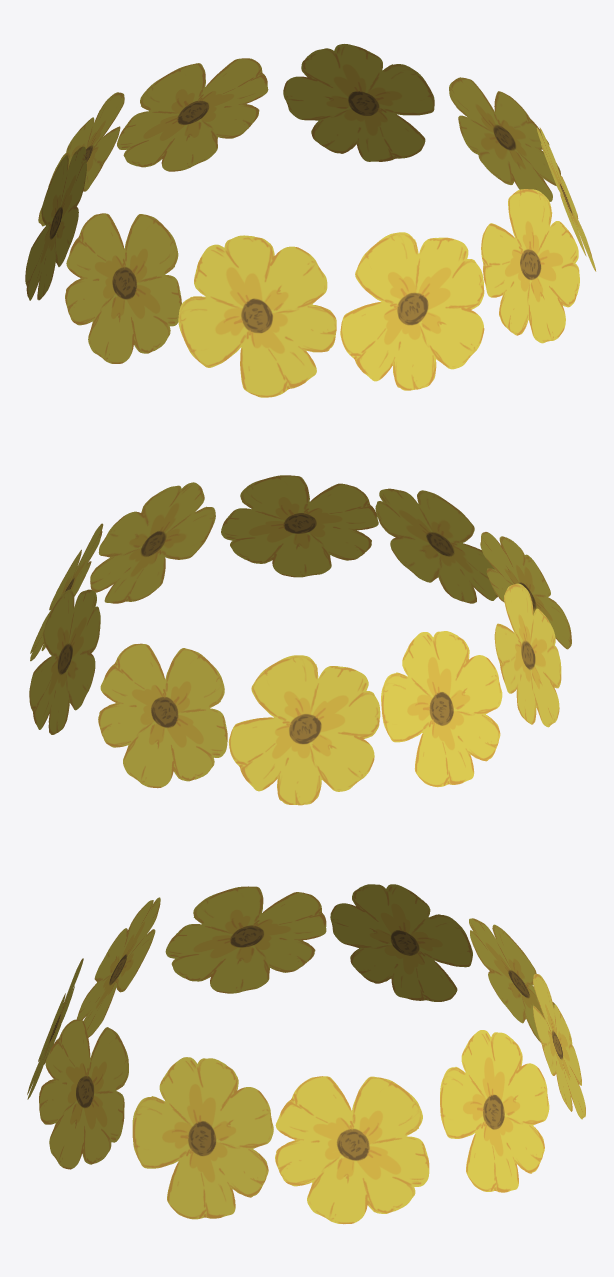
The model's file is couronnefleur.fbx.
3 views of the same model, one above another, from view 1: azimuth 30°, elevation 25°; view 2: azimuth 150°, elevation 25°; view 3: azimuth 270°, elevation 25° (orthographic). The views are drawn at different scales.
Parts seen in each view (by area): view 1: Couronne; view 2: Couronne; view 3: Couronne.
Part boxes in pixels (left/top/right/bottom): Couronne: left=25, top=44, right=596, bottom=397; Couronne: left=29, top=475, right=571, bottom=805; Couronne: left=27, top=884, right=585, bottom=1224.
Bounding box in the file's own units: 1.14 × 0.4514 × 1.14.
